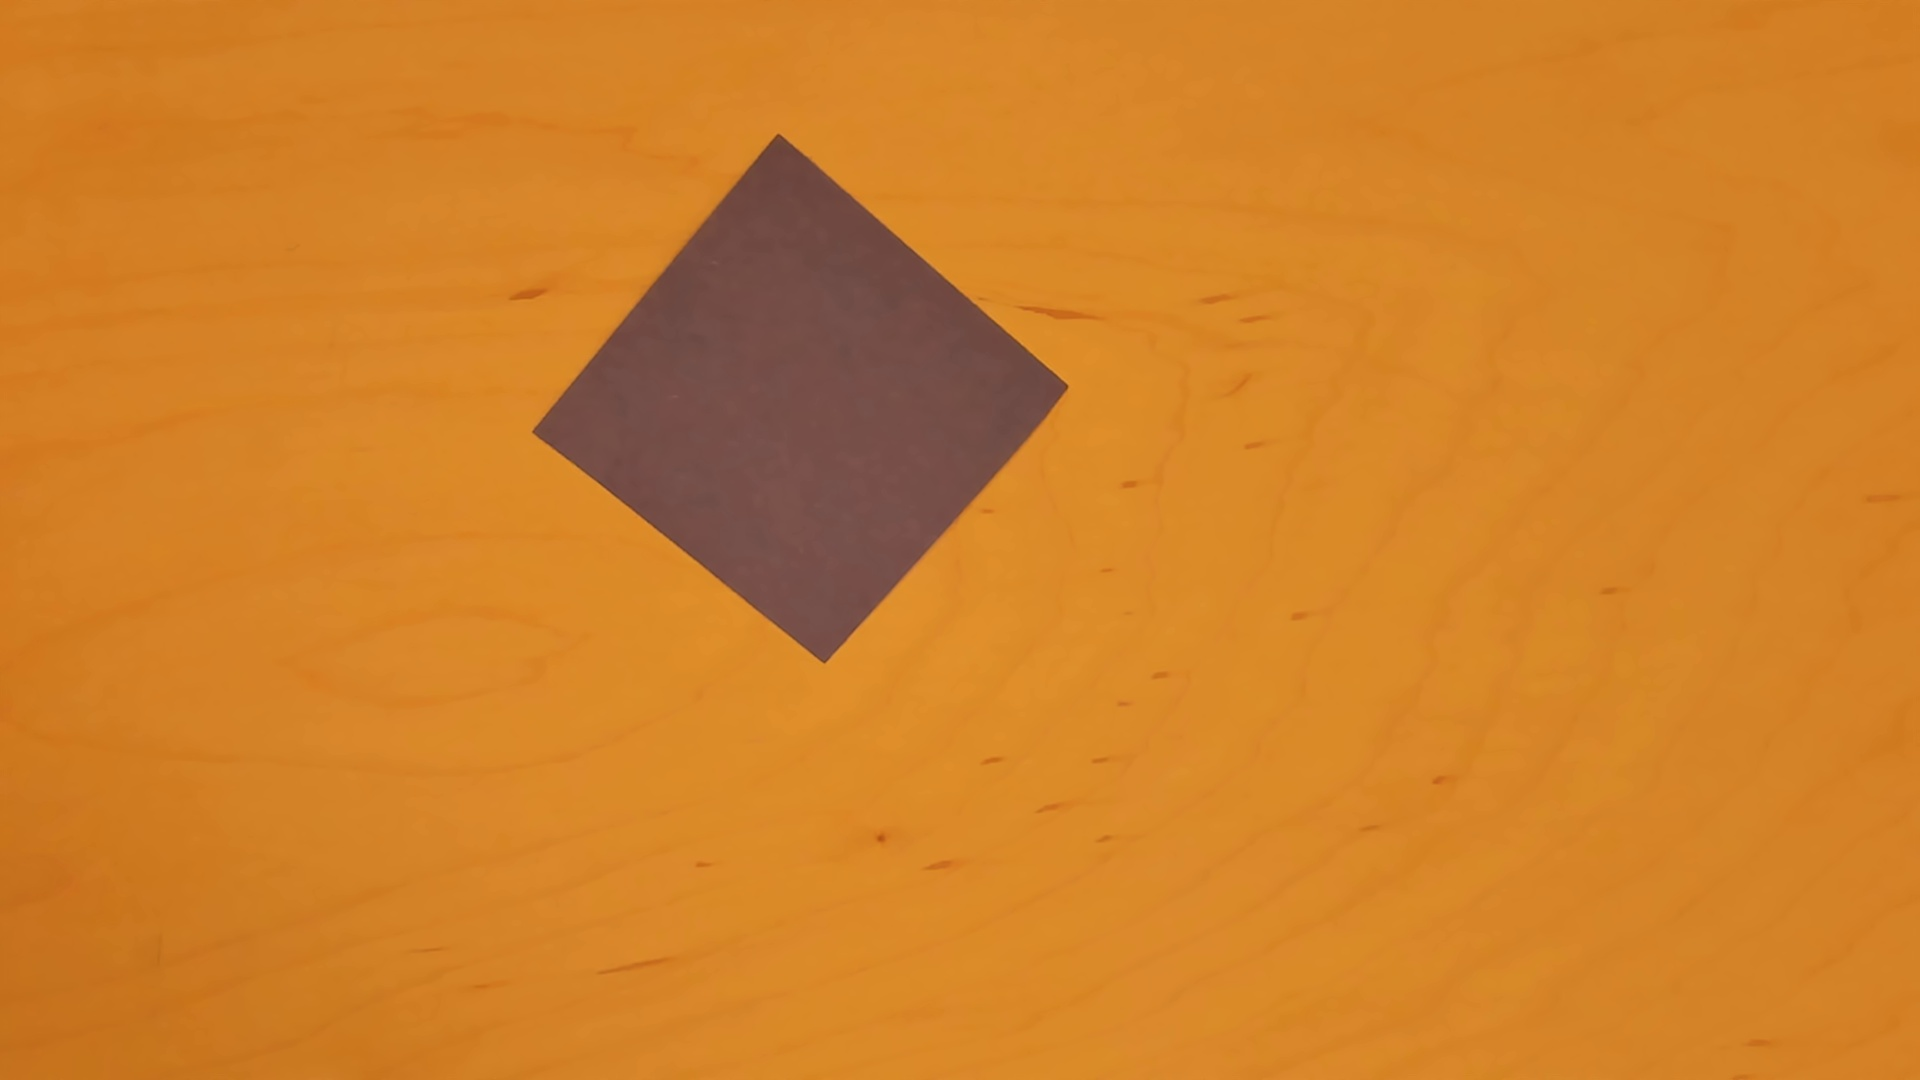BS: (529, 135, 1073, 665)
